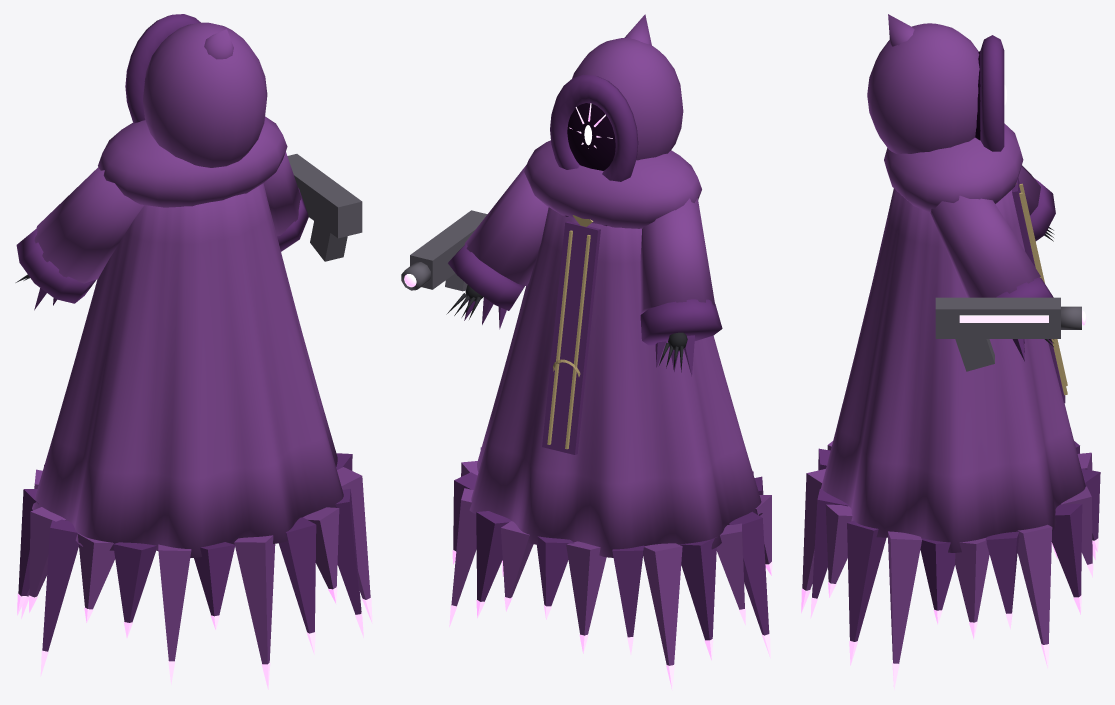
File: myslodej.glb
The picture shows the model from 3 angles, left to right: view 1: azimuth 30°, elevation 25°; view 2: azimuth 150°, elevation 25°; view 3: azimuth 270°, elevation 25°; orthographic projection. The views are drawn at different scales.
Parts seen in each view (by area): view 1: Robe, Weapon; view 2: Robe, Weapon; view 3: Robe, Weapon.
Part boxes in pixels (x1,y1,x2,y2): Robe: [15, 14, 372, 689]; Weapon: [287, 154, 362, 261]; Robe: [446, 14, 772, 690]; Weapon: [401, 210, 487, 291]; Robe: [801, 14, 1100, 690]; Weapon: [935, 297, 1086, 371].
Bounding box in the file's own units: 1.2 × 2.25 × 1.
